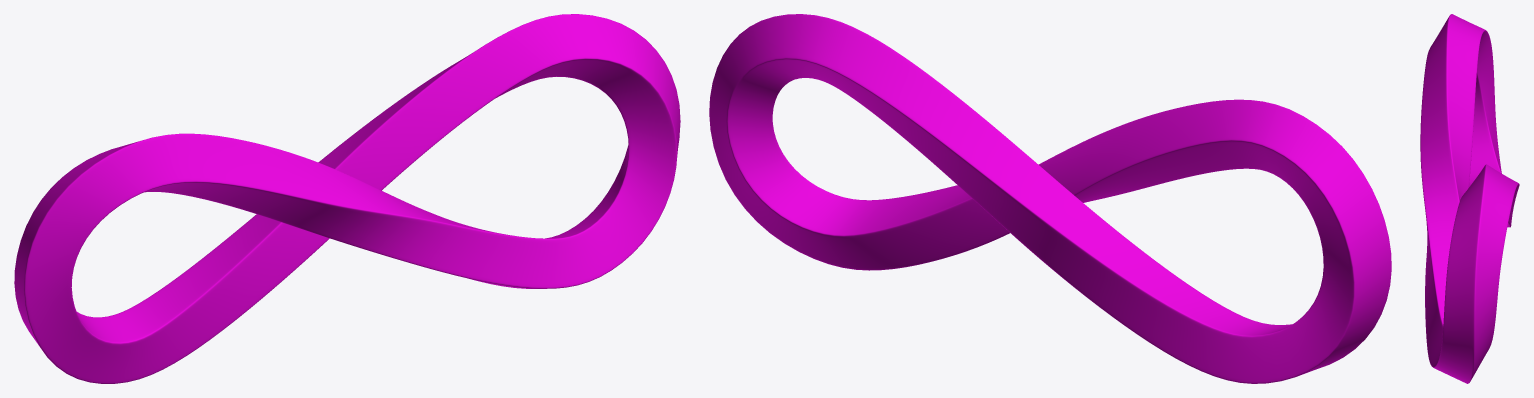
Rendered from squareInfinity2_25.glb.
3 views of the same model, side by side, from view 1: azimuth 30°, elevation 25°; view 2: azimuth 150°, elevation 25°; view 3: azimuth 270°, elevation 25° (orthographic). The views are drawn at different scales.
Visible parts, largest first — view 1: Infinity_loop; view 2: Infinity_loop; view 3: Infinity_loop.
Part boxes in pixels (left/top/right/bottom): Infinity_loop: left=14, top=14, right=680, bottom=383; Infinity_loop: left=709, top=14, right=1391, bottom=383; Infinity_loop: left=1420, top=14, right=1519, bottom=383.
Bounding box in the file's own units: 2.25 × 0.8325 × 0.3825.
